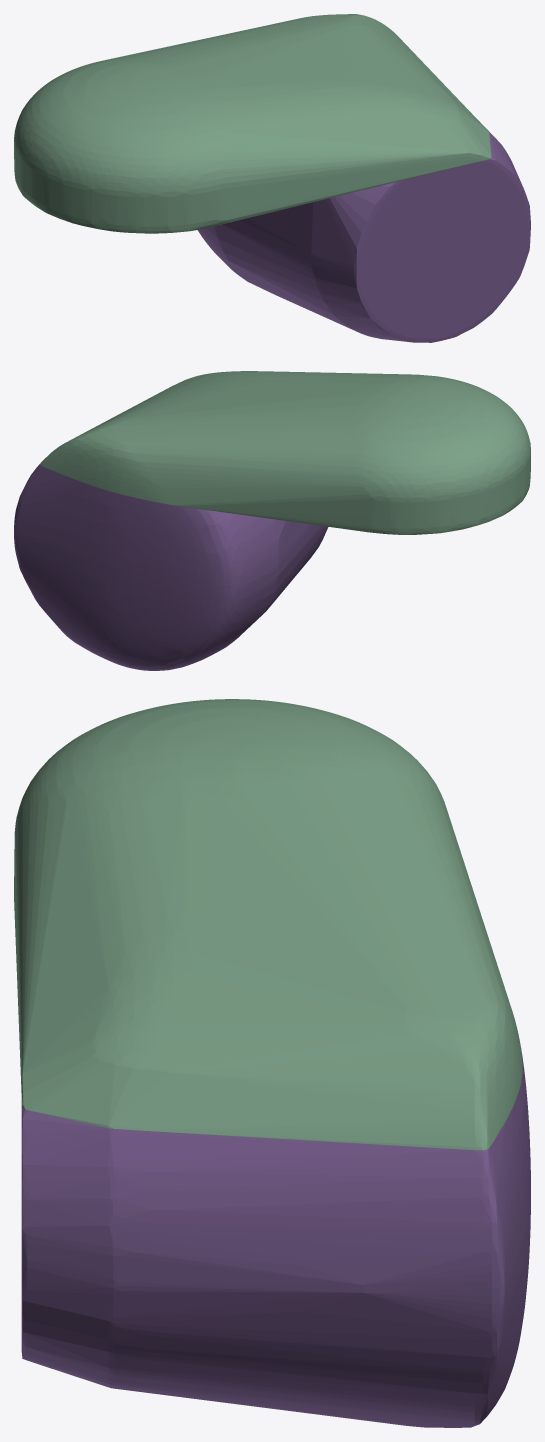
The model's file is L_arm_l6.obj.
The picture shows the model from 3 angles, top to bottom: view 1: azimuth 30°, elevation 25°; view 2: azimuth 150°, elevation 25°; view 3: azimuth 270°, elevation 25°; orthographic projection. The views are drawn at different scales.
Parts seen in each view (by area): view 1: geometry_0, geometry_1; view 2: geometry_0, geometry_1; view 3: geometry_0, geometry_1.
Part boxes in pixels (x1,y1,x2,y2): geometry_0: (14,14,491,233); geometry_1: (197,121,530,342); geometry_0: (39,371,530,534); geometry_1: (14,464,328,670); geometry_0: (14,699,522,1150); geometry_1: (21,1048,530,1427).
Size of the model in its own units: 0.1346 by 0.0821 by 0.08.
